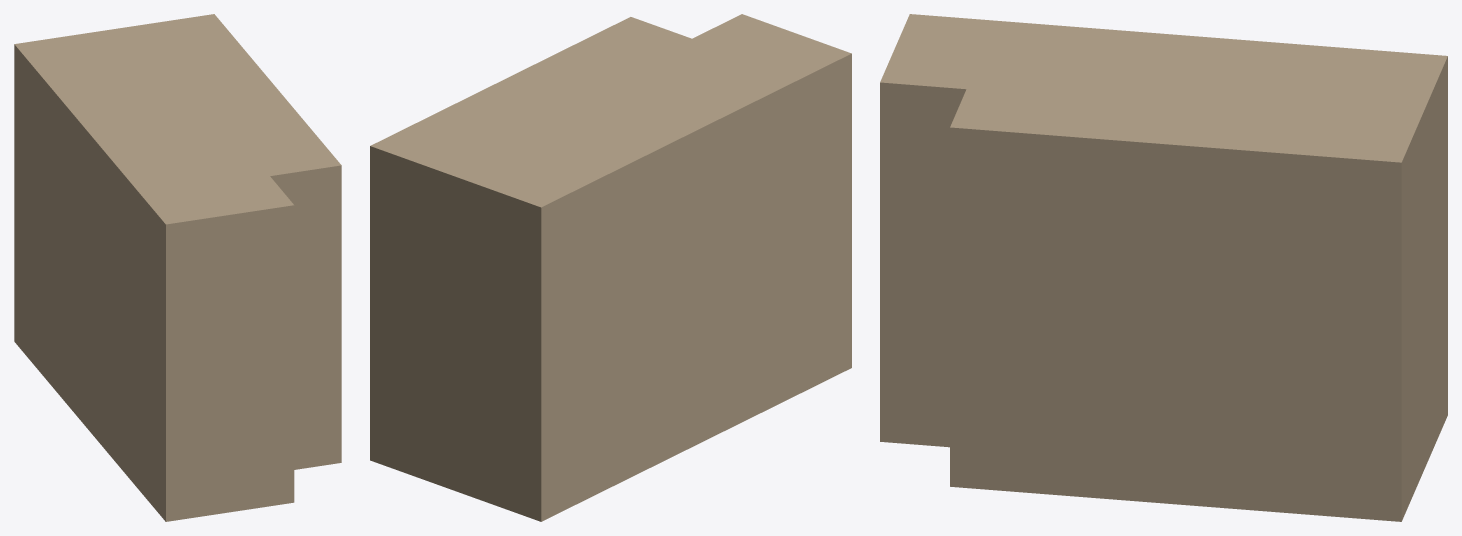
Rendered from bld_99020412.dae.
3 renders of one model, left to right at view 1: azimuth 30°, elevation 25°; view 2: azimuth 150°, elevation 25°; view 3: azimuth 270°, elevation 25°, orthographic. The views are drawn at different scales.
Visible parts, largest first — view 1: bld_99020412; view 2: bld_99020412; view 3: bld_99020412.
Boxes of the visible parts, <box> form: bld_99020412: <box>14,14,341,521</box>; bld_99020412: <box>370,14,851,521</box>; bld_99020412: <box>880,14,1447,521</box>.
Size of the model in its own units: 7.1 by 11.46 by 8.
